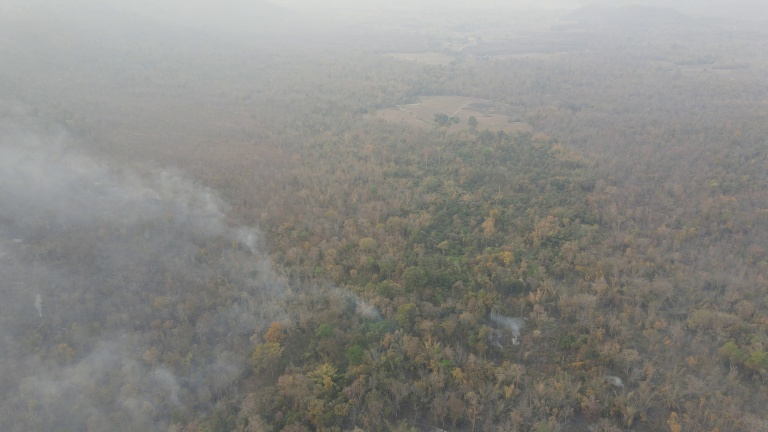smoke: (1, 75, 297, 430), (310, 278, 388, 332), (489, 304, 530, 348)
